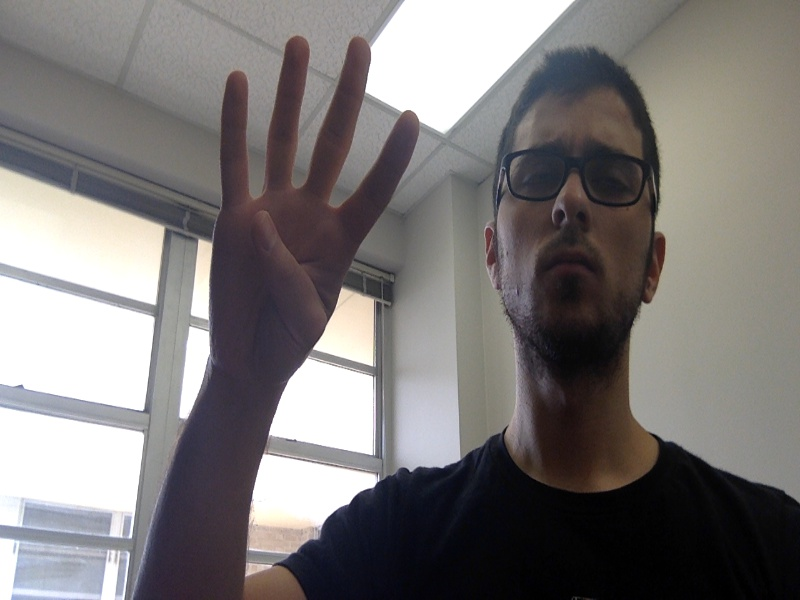4-hand: (210, 35, 419, 379)
